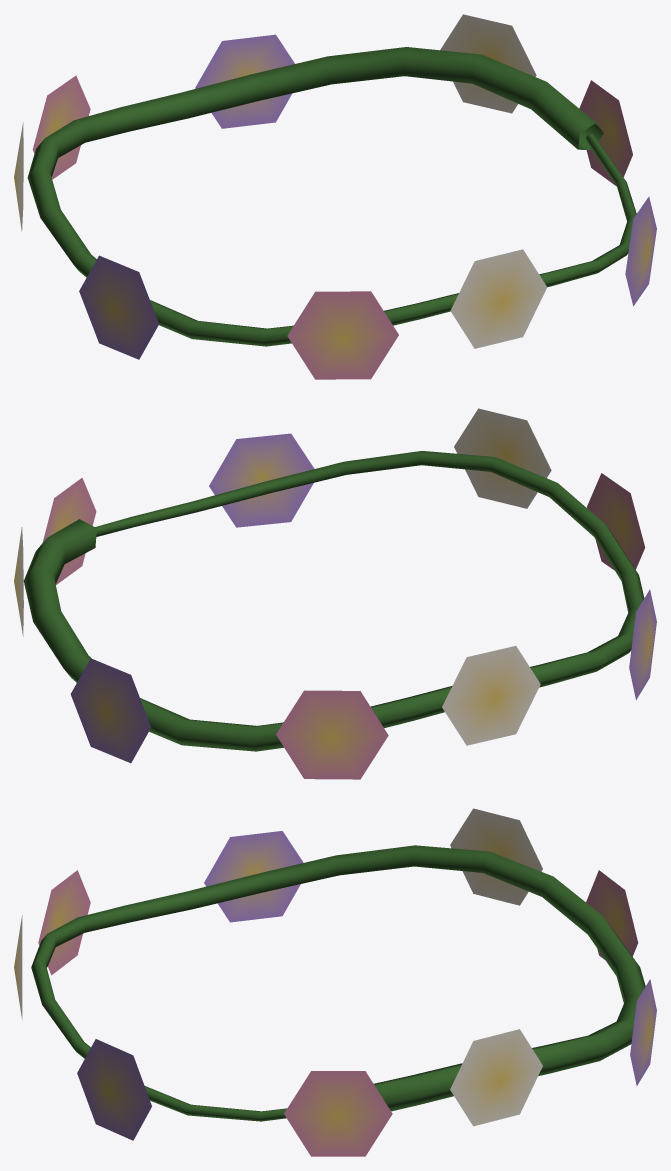
The model's file is flower_crown.glb.
3 renders of one model, top to bottom at view 1: azimuth 30°, elevation 25°; view 2: azimuth 150°, elevation 25°; view 3: azimuth 270°, elevation 25°, orthographic. The views are drawn at different scales.
Visible parts, largest first — view 1: flower_crown; view 2: flower_crown; view 3: flower_crown.
Part boxes in pixels (x1,y1,x2,y2): flower_crown: (14, 14, 656, 379); flower_crown: (14, 408, 656, 779); flower_crown: (14, 808, 656, 1156).
Size of the model in its own units: 0.2943 by 0.0621 by 0.3071.
